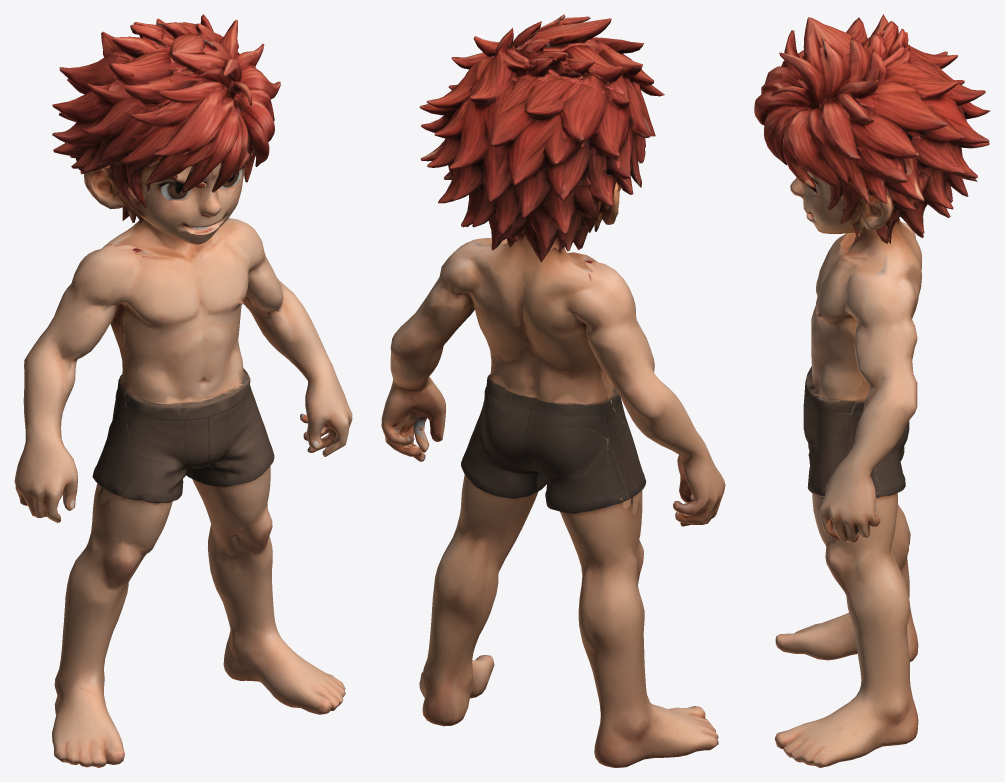
File: body.glb
3 renders of one model, left to right at view 1: azimuth 30°, elevation 25°; view 2: azimuth 150°, elevation 25°; view 3: azimuth 270°, elevation 25°, orthographic. The views are drawn at different scales.
Visible parts, largest first — view 1: texture_mapping; view 2: texture_mapping; view 3: texture_mapping.
Part boxes in pixels (bbox=[...]): texture_mapping: bbox=[14, 14, 352, 767]; texture_mapping: bbox=[381, 14, 725, 767]; texture_mapping: bbox=[754, 14, 990, 767].
Size of the model in its own units: 0.4973 by 1 by 0.319.
1 material, 1 textured.
